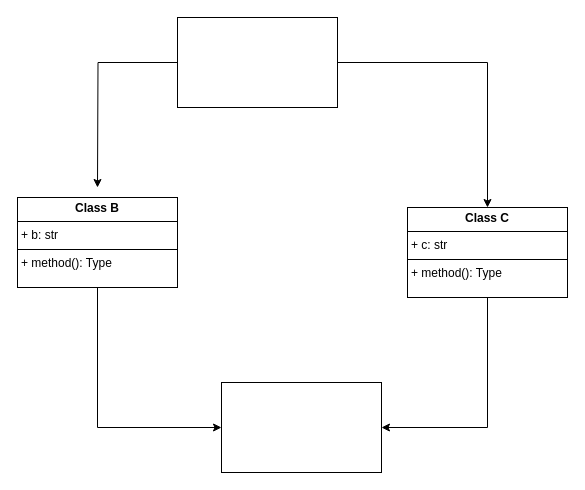
The diagram is 585 pixels wide and 490 high, and some of its shapes have lost their labels. Each missing label, with the centre of its shape:
"Class A + a: str + method(): Type" belongs at pixel 257 62.
"Class D + B.__init__: str C.__init__:str + method(): Type" belongs at pixel 301 427.
